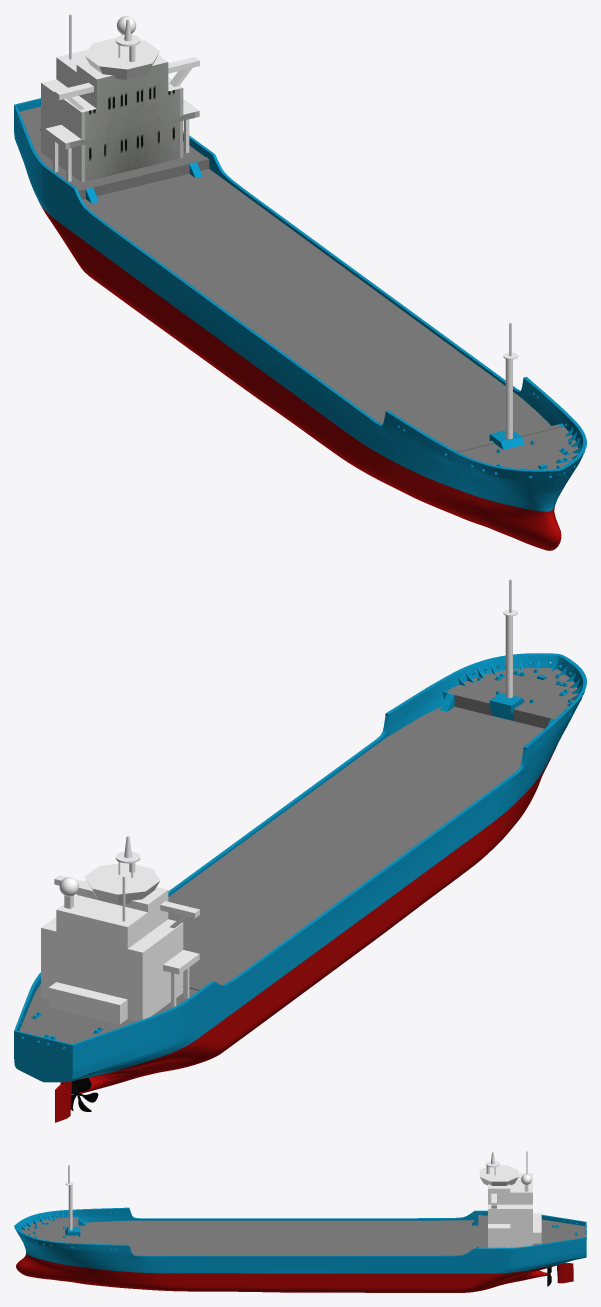
Rendered from Container Ship N111220.obj.
The picture shows the model from 3 angles, top to bottom: view 1: azimuth 30°, elevation 25°; view 2: azimuth 150°, elevation 25°; view 3: azimuth 270°, elevation 25°; orthographic projection. The views are drawn at different scales.
Visible parts, largest first — view 1: Ship, Bridge; view 2: Ship; view 3: Ship.
Boxes of the visible parts, x1=… form: Ship: x1=14, y1=14, x2=586, y2=550; Bridge: x1=65, y1=62, x2=199, y2=182; Ship: x1=14, y1=579, x2=586, y2=1122; Ship: x1=14, y1=1151, x2=586, y2=1292.
Size of the model in its own units: 26.69 by 43.21 by 169.
